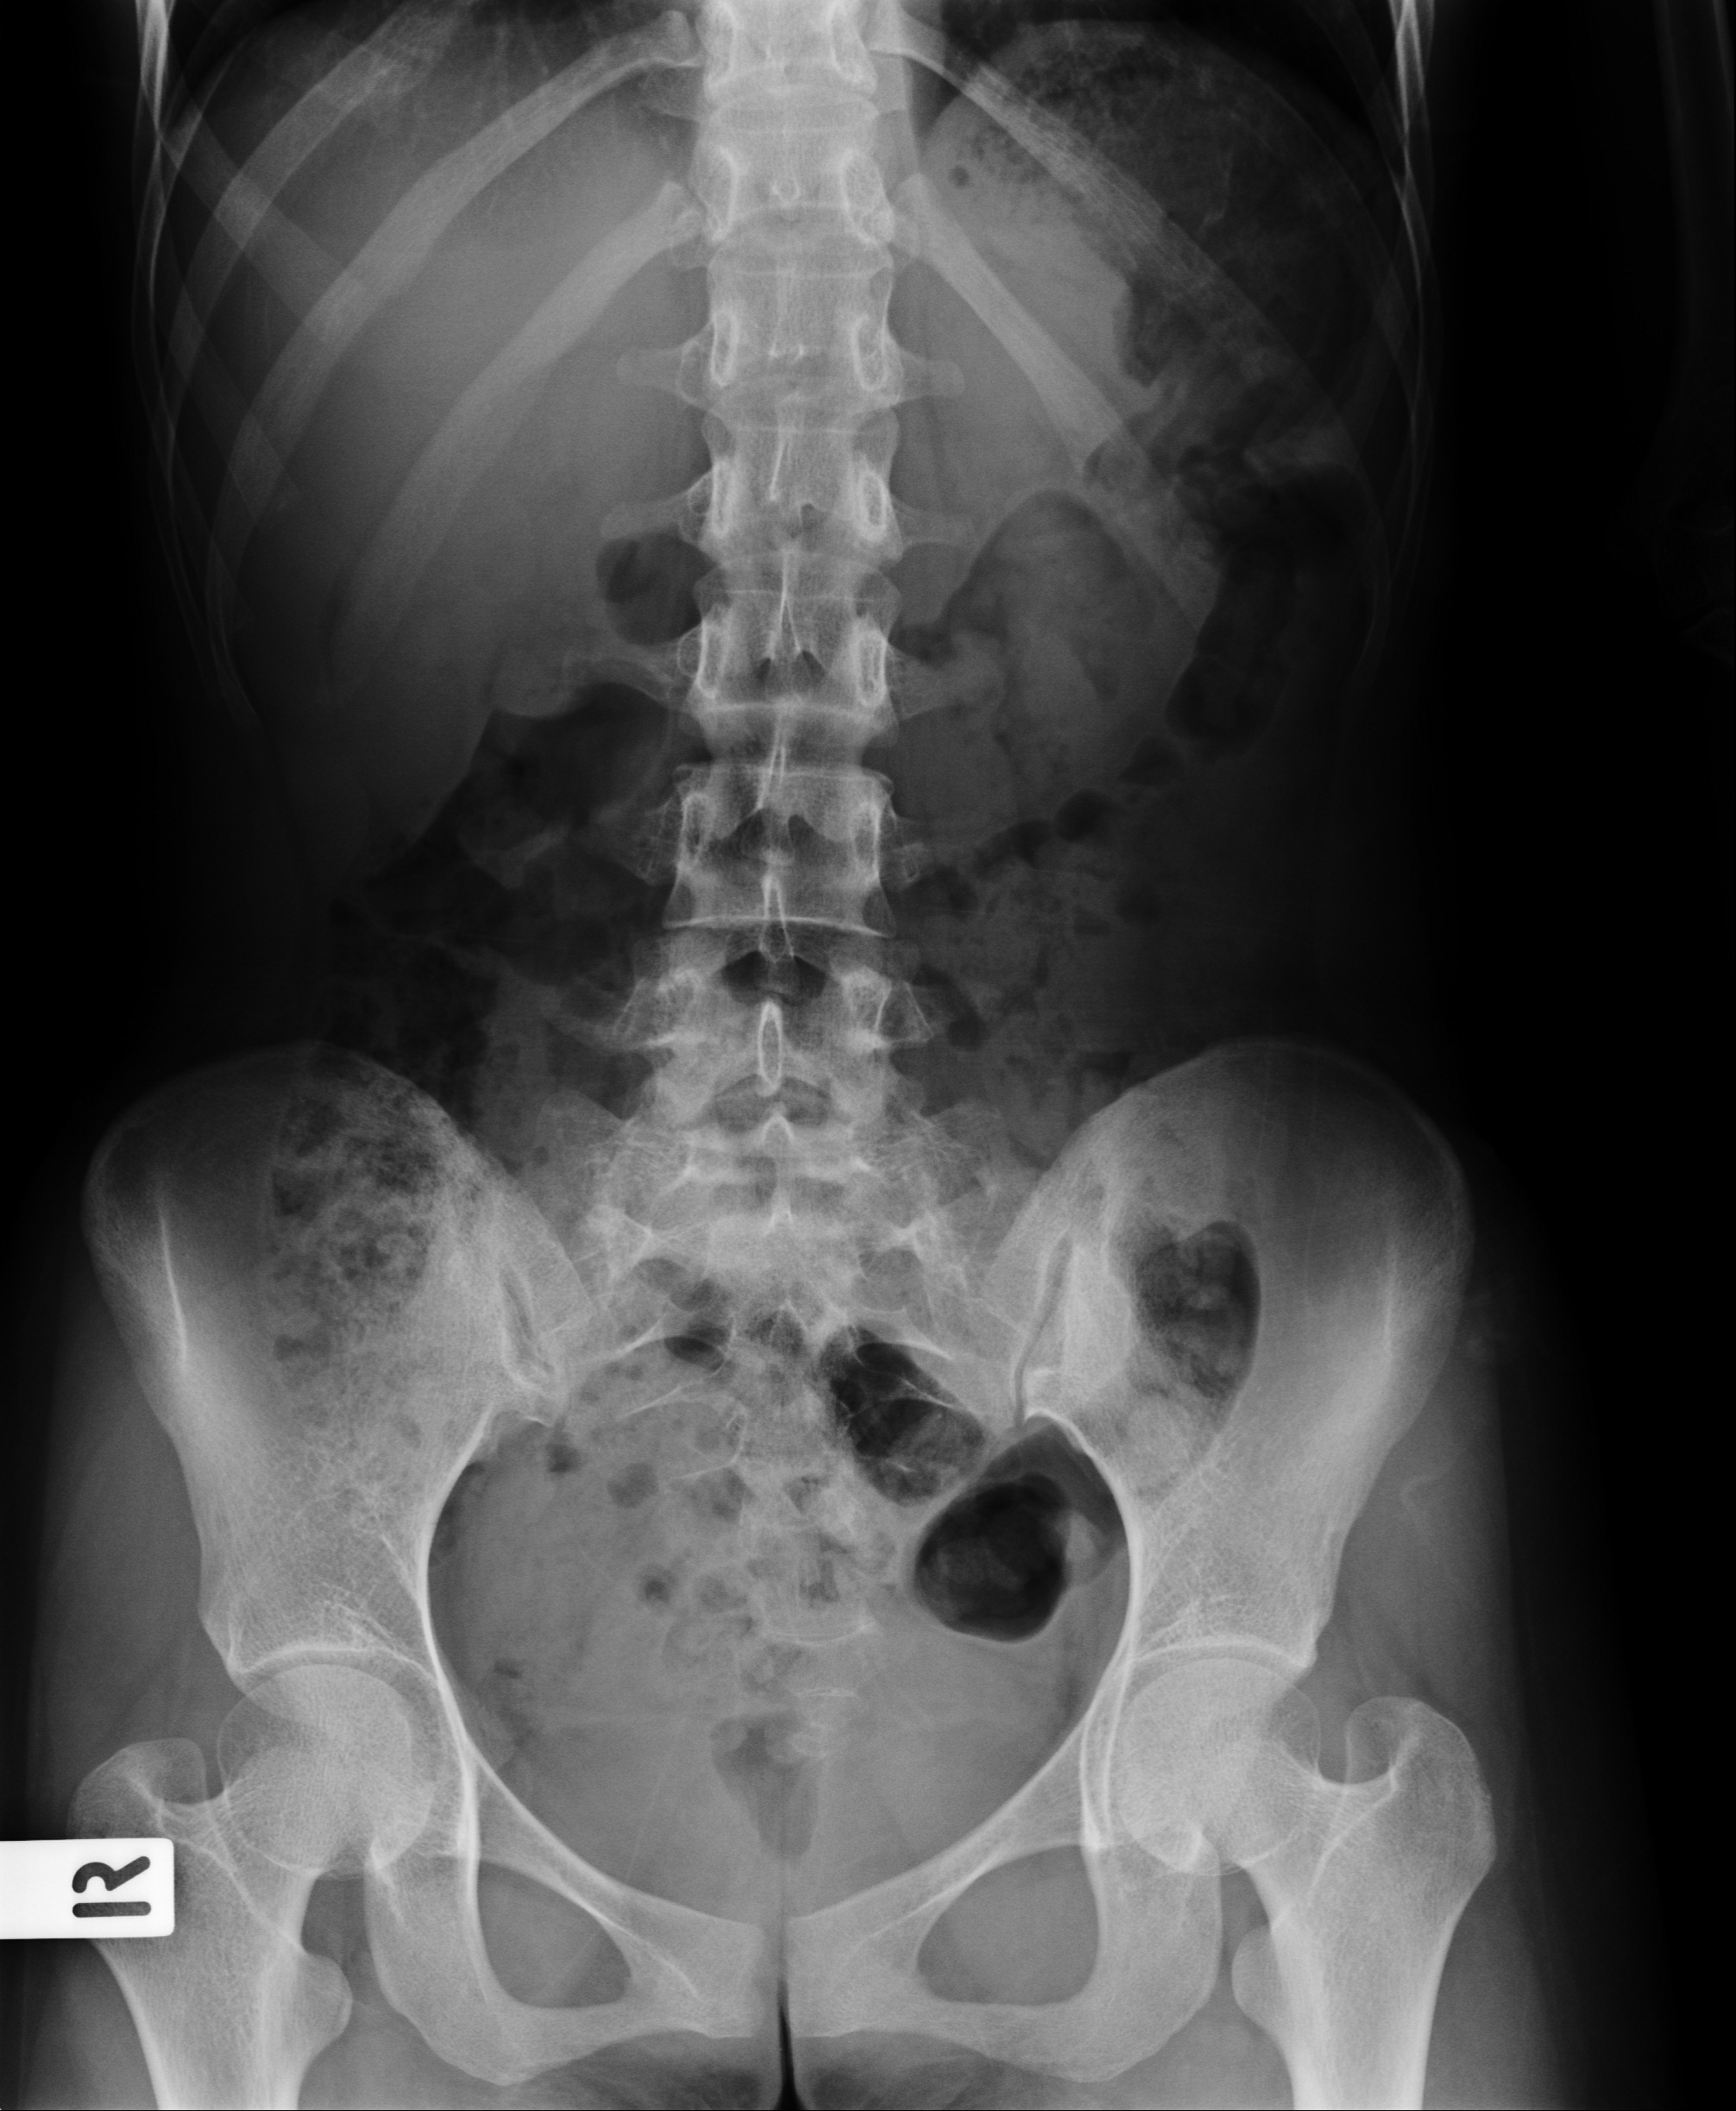lumbar scoliosis: (654, 12, 910, 1324)
